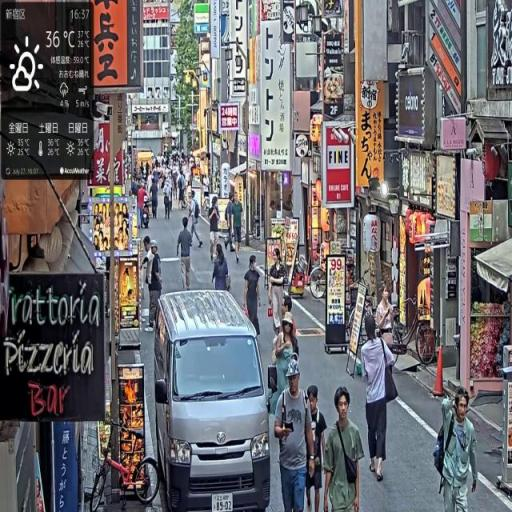person: (360, 313, 401, 484), (274, 359, 315, 512), (434, 390, 480, 512), (323, 386, 367, 511), (306, 385, 329, 512), (269, 248, 288, 346), (244, 254, 264, 339), (176, 218, 195, 291), (213, 244, 232, 294), (188, 190, 204, 249), (209, 197, 221, 264)
